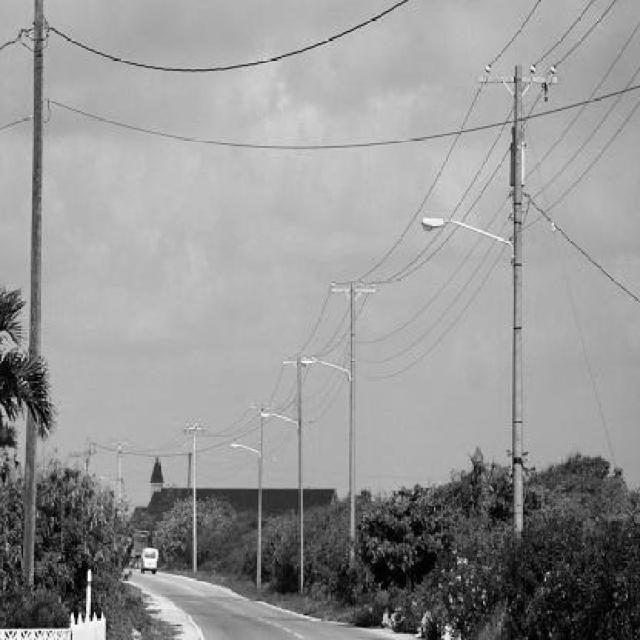Pole: (480, 65, 558, 537), (22, 0, 48, 587), (332, 281, 376, 561), (230, 405, 272, 588), (185, 423, 204, 573), (296, 358, 302, 594)
